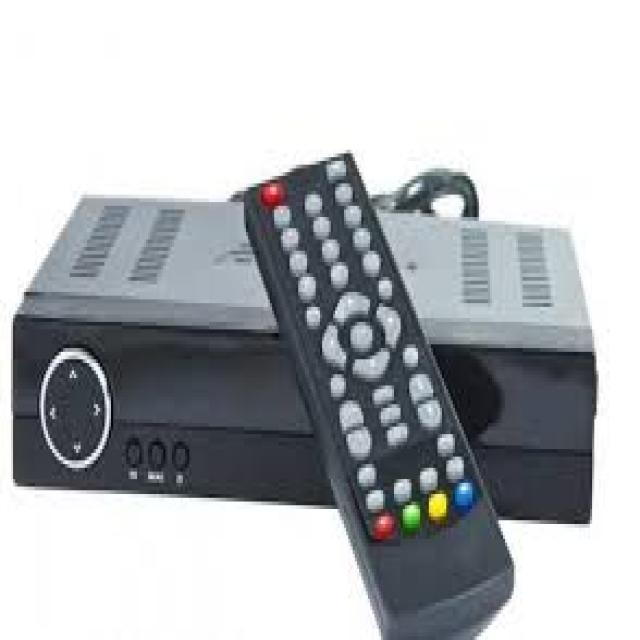remote: (237, 150, 525, 640)
